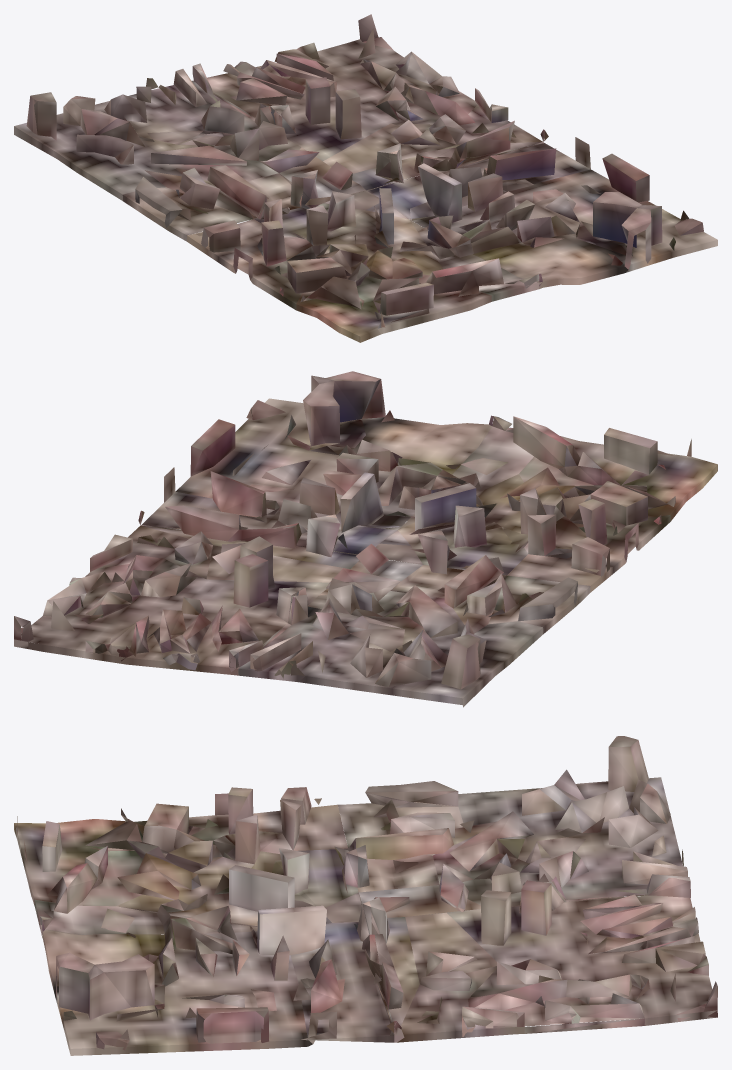
The picture shows the model from 3 angles, top to bottom: view 1: azimuth 30°, elevation 25°; view 2: azimuth 150°, elevation 25°; view 3: azimuth 270°, elevation 25°; orthographic projection. The views are drawn at different scales.
Visible parts, largest first — view 1: Mesh_0; view 2: Mesh_0; view 3: Mesh_0.
Boxes of the visible parts, x1,y1,x2,y2 form: Mesh_0: [14, 14, 717, 342]; Mesh_0: [14, 371, 717, 707]; Mesh_0: [14, 736, 717, 1055].
Bounding box in the file's own units: 533 × 86.75 × 659.
2 materials, 2 textured.
